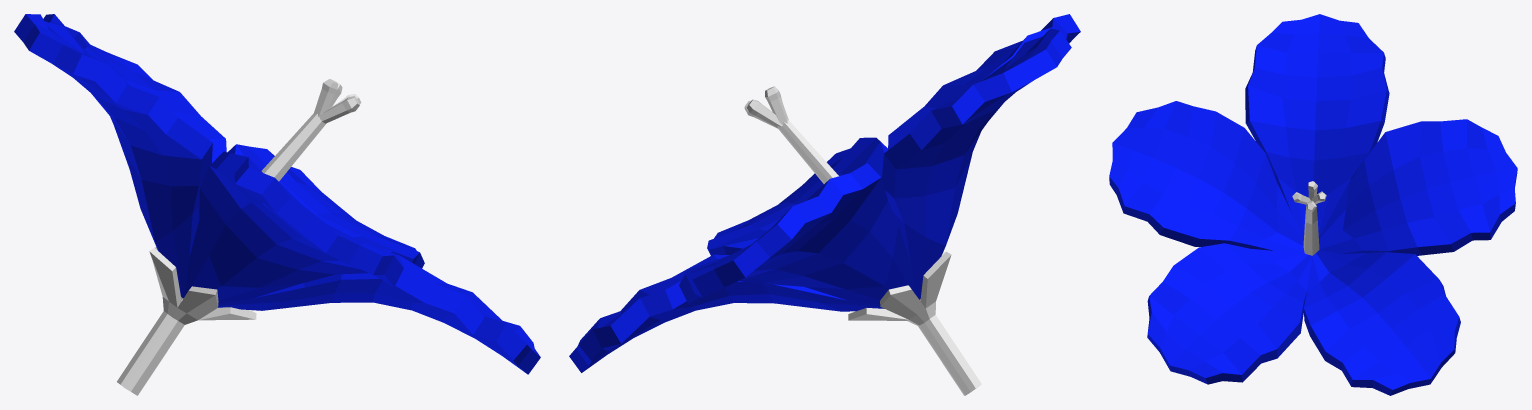
The model's file is flower-blue.glb.
The picture shows the model from 3 angles, left to right: view 1: azimuth 30°, elevation 25°; view 2: azimuth 150°, elevation 25°; view 3: azimuth 270°, elevation 25°; orthographic projection. The views are drawn at different scales.
Visible parts, largest first — view 1: hibiscus_flower; view 2: hibiscus_flower; view 3: hibiscus_flower.
Part boxes in pixels (x1,y1,x2,y2): hibiscus_flower: [14, 14, 540, 395]; hibiscus_flower: [569, 14, 1080, 395]; hibiscus_flower: [1109, 14, 1517, 395].
Size of the model in its own units: 1.39 by 1.17 by 1.71.
